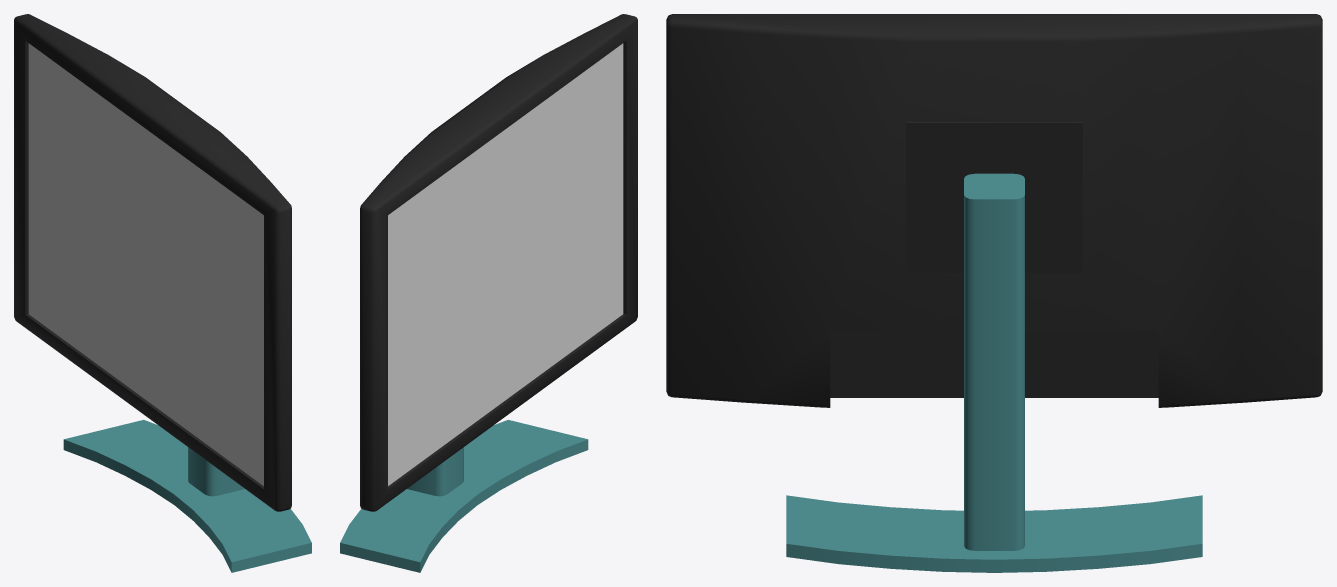
Rendered from PH_ComputerBevelTest.fbx.
3 views of the same model, side by side, from view 1: azimuth 30°, elevation 25°; view 2: azimuth 150°, elevation 25°; view 3: azimuth 270°, elevation 25° (orthographic). The views are drawn at different scales.
Visible parts, largest first — view 1: S_ScreenPC; view 2: S_ScreenPC; view 3: S_ScreenPC.
Boxes of the visible parts, x1,y1,x2,y2 form: S_ScreenPC: (14, 14, 311, 572); S_ScreenPC: (340, 14, 637, 572); S_ScreenPC: (666, 14, 1322, 572).
Bounding box in the file's own units: 13.67 × 47.59 × 57.23.
